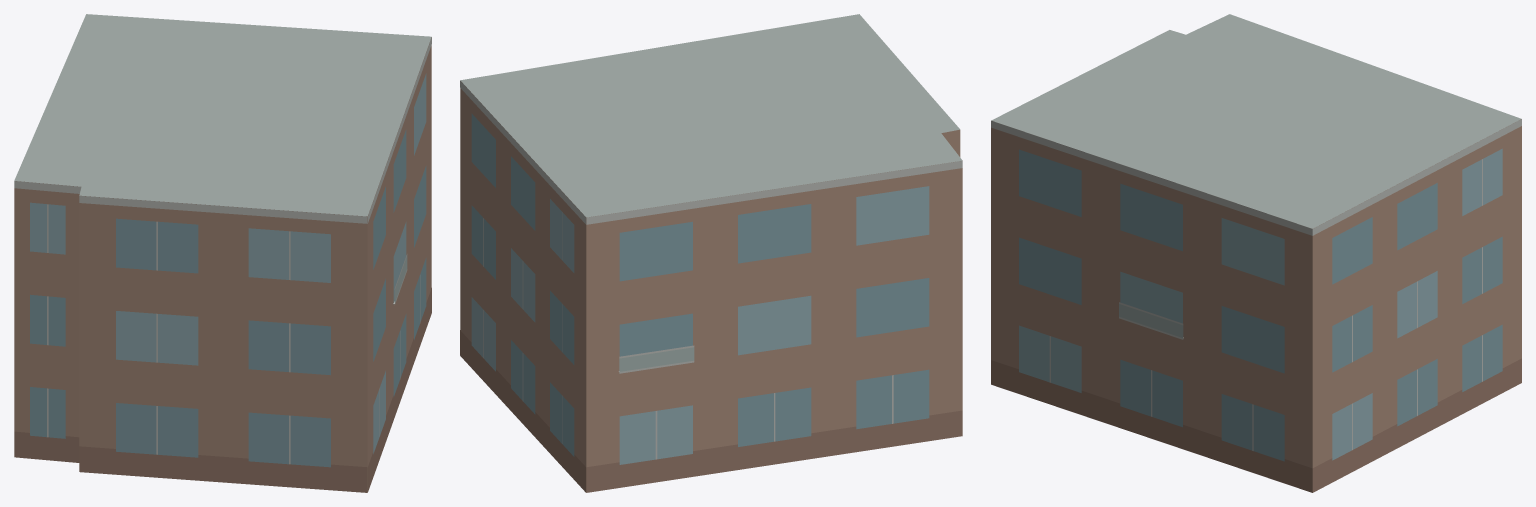
File: survey-upis-32624031.glb
3 renders of one model, left to right at view 1: azimuth 30°, elevation 25°; view 2: azimuth 150°, elevation 25°; view 3: azimuth 270°, elevation 25°, orthographic. The views are drawn at different scales.
Visible parts, largest first — view 1: survey-upis-32624031.tmp; view 2: survey-upis-32624031.tmp; view 3: survey-upis-32624031.tmp.
Part boxes in pixels (<box>): survey-upis-32624031.tmp: <box>14,14,431,492</box>; survey-upis-32624031.tmp: <box>460,14,962,492</box>; survey-upis-32624031.tmp: <box>991,14,1521,492</box>.
Bounding box in the file's own units: 15.98 × 9.15 × 16.68.
